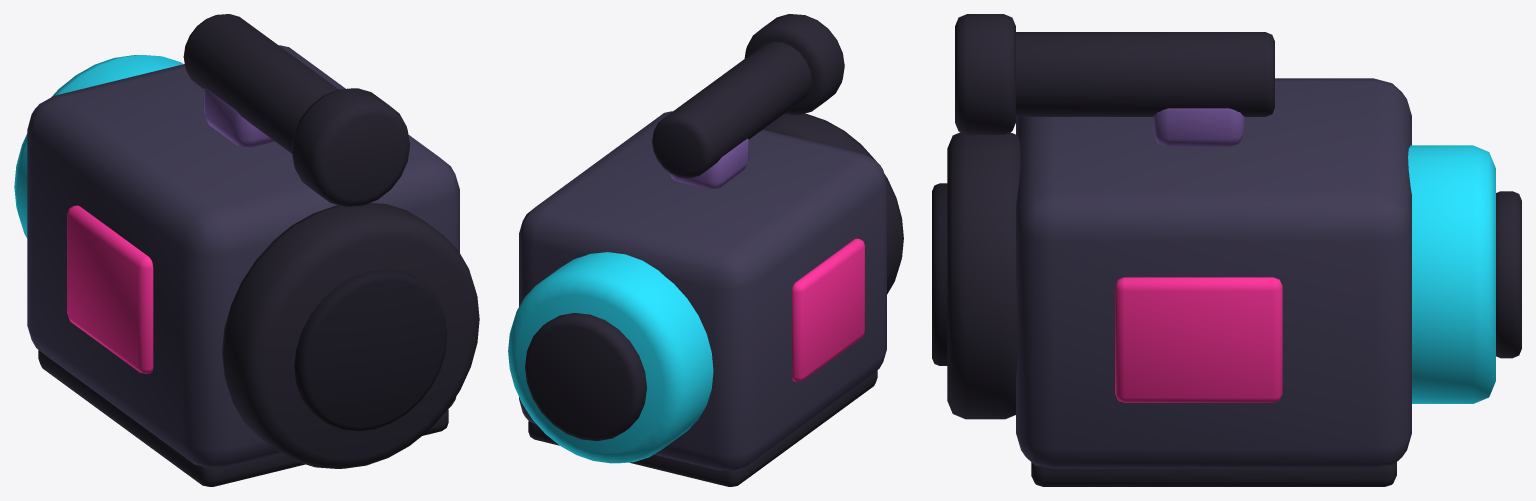
The model's file is Flamethrower.fbx.
The picture shows the model from 3 angles, left to right: view 1: azimuth 30°, elevation 25°; view 2: azimuth 150°, elevation 25°; view 3: azimuth 270°, elevation 25°; orthographic projection. The views are drawn at different scales.
Parts seen in each view (by area): view 1: Body, Dark, Cone, Neon_Magenta, Neon_Cyan, Purple; view 2: Body, Dark, Neon_Cyan, Neon_Magenta, Purple; view 3: Body, Dark, Neon_Cyan, Neon_Magenta, Purple, Cone.
Boxes of the visible parts, <box> form: Body: <box>27,45,459,468</box>; Dark: <box>38,14,479,486</box>; Cone: <box>294,269,447,431</box>; Neon_Magenta: <box>67,205,153,373</box>; Neon_Cyan: <box>14,55,183,238</box>; Purple: <box>204,88,274,147</box>; Body: <box>519,111,886,470</box>; Dark: <box>525,14,903,486</box>; Neon_Cyan: <box>508,252,713,463</box>; Neon_Magenta: <box>792,238,864,381</box>; Purple: <box>670,138,748,189</box>; Body: <box>1016,78,1411,468</box>; Dark: <box>947,14,1521,486</box>; Neon_Cyan: <box>1408,145,1495,403</box>; Neon_Magenta: <box>1115,277,1282,402</box>; Purple: <box>1153,108,1244,146</box>; Cone: <box>932,183,947,365</box>.
Bounding box in the file's own units: 2.02 × 2.51 × 3.29.
